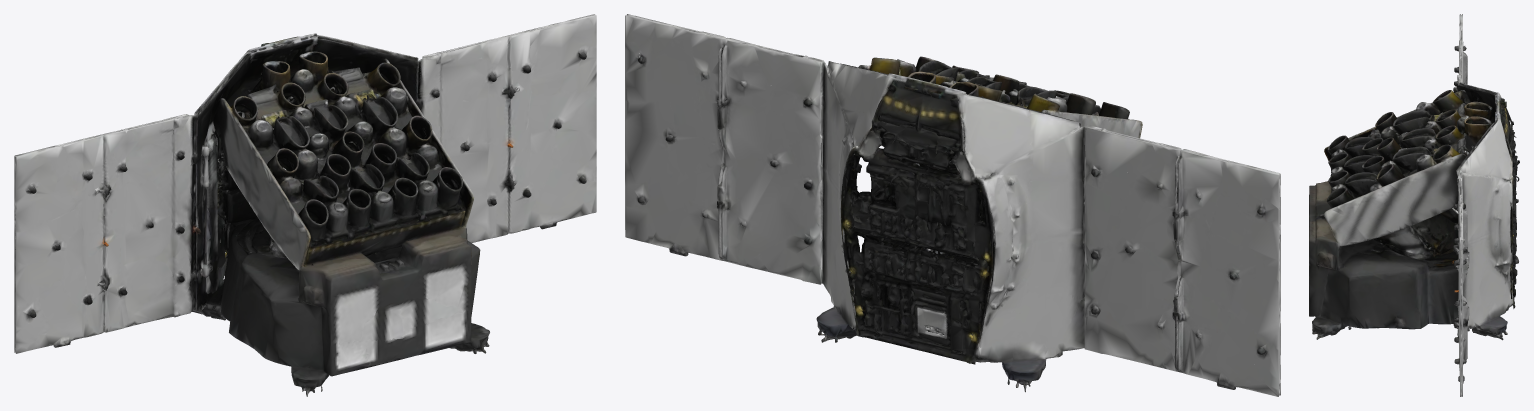
Rendered from plato.glb.
3 renders of one model, left to right at view 1: azimuth 30°, elevation 25°; view 2: azimuth 150°, elevation 25°; view 3: azimuth 270°, elevation 25°, orthographic. The views are drawn at different scales.
Bounding box in the file's own units: 1.9 × 0.7855 × 0.7497.
1 material, 1 textured.
